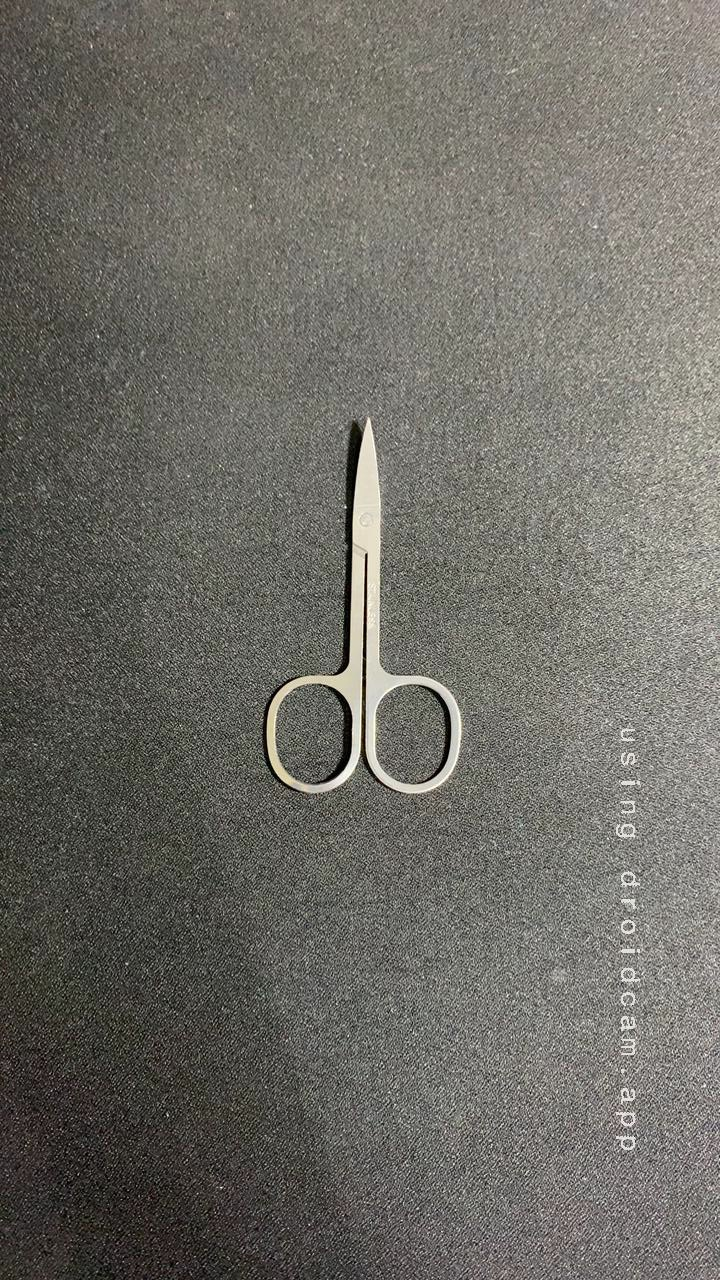scissor: (229, 411, 489, 808)
